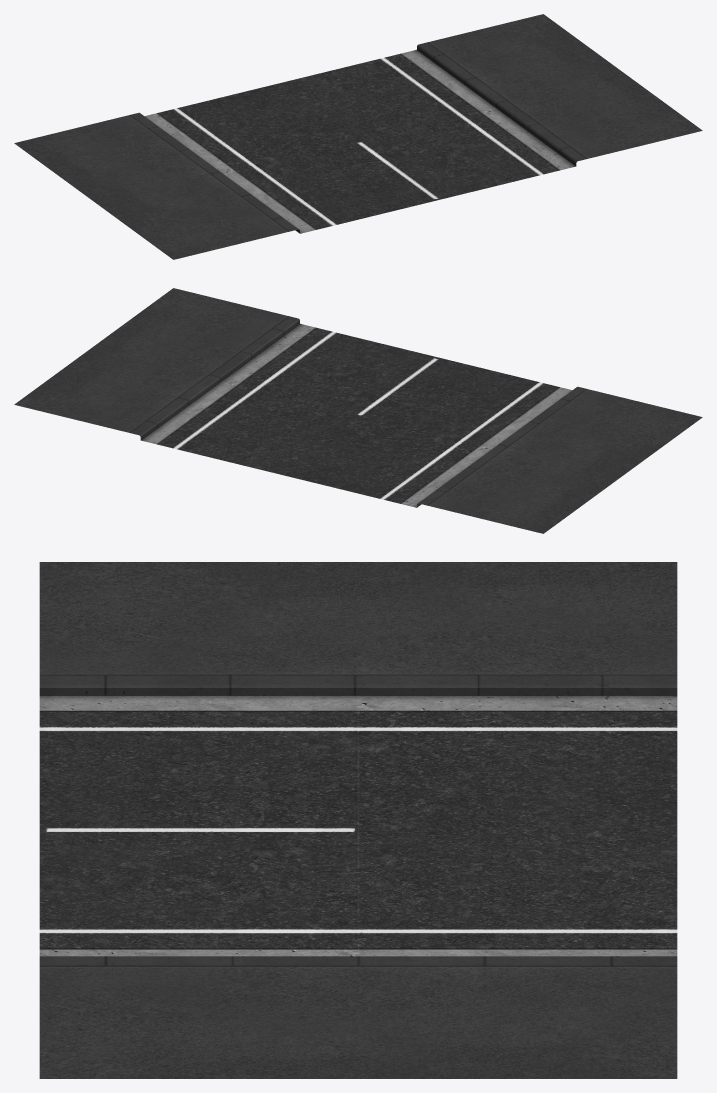
Rendered from road_segment.obj.
3 renders of one model, top to bottom at view 1: azimuth 30°, elevation 25°; view 2: azimuth 150°, elevation 25°; view 3: azimuth 270°, elevation 25°, orthographic. The views are drawn at different scales.
Parts seen in each view (by area): view 1: obj0.001; view 2: obj0.001; view 3: obj0.001.
Boxes of the visible parts, bbox=[...] form: obj0.001: bbox=[14, 14, 702, 259]; obj0.001: bbox=[14, 288, 702, 533]; obj0.001: bbox=[39, 562, 677, 1078].
Size of the model in its own units: 11.47 by 0.0998 by 5.99.
3 materials, 3 textured.
